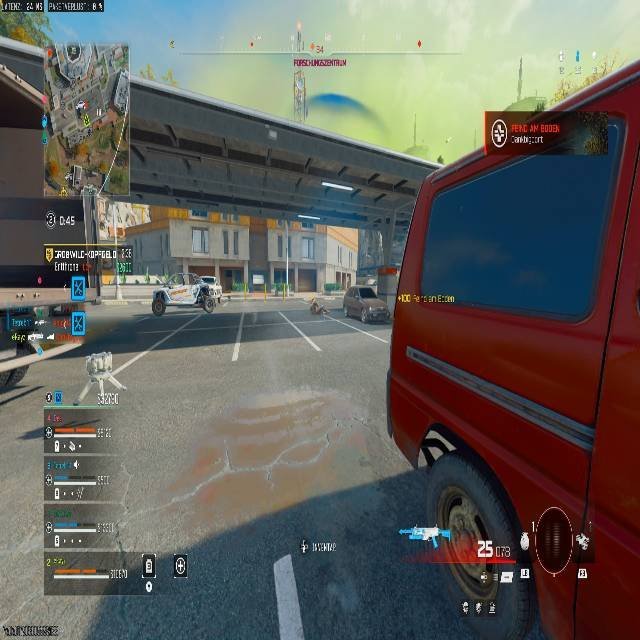player: (194, 281, 212, 313), (151, 286, 167, 317)
